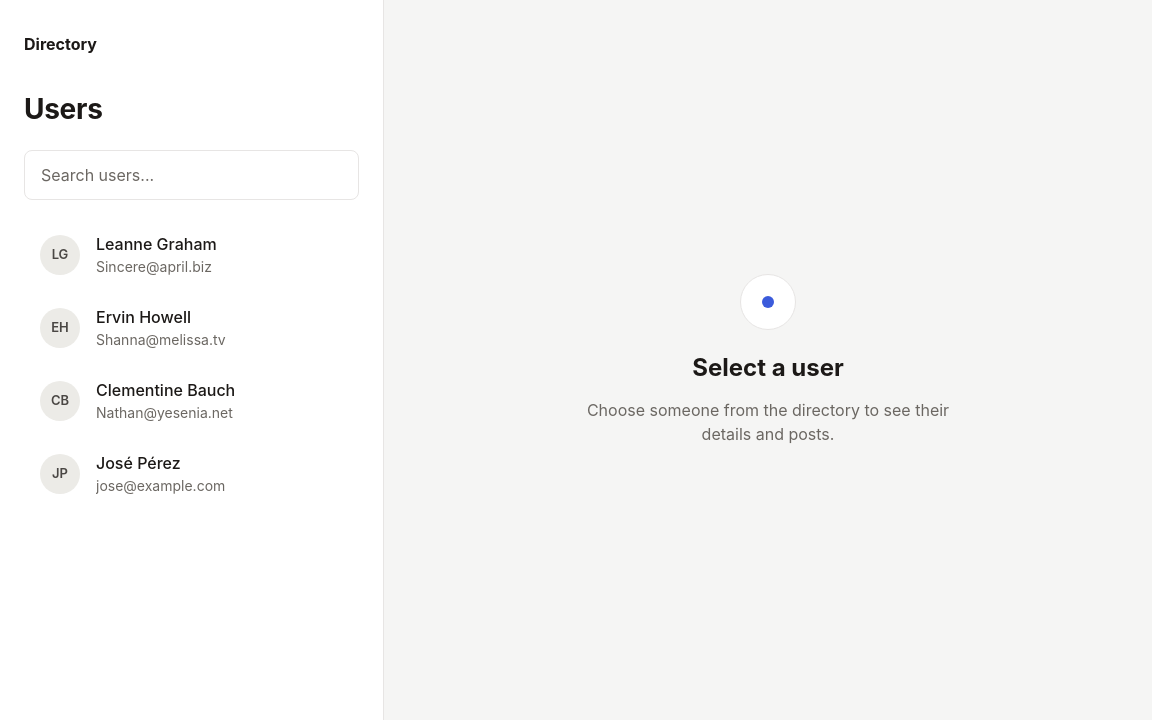
Test: User posts › shows an empty state for a user without posts
Click the button "Clementine Bauch": point(192, 400) [24,366,359,435]
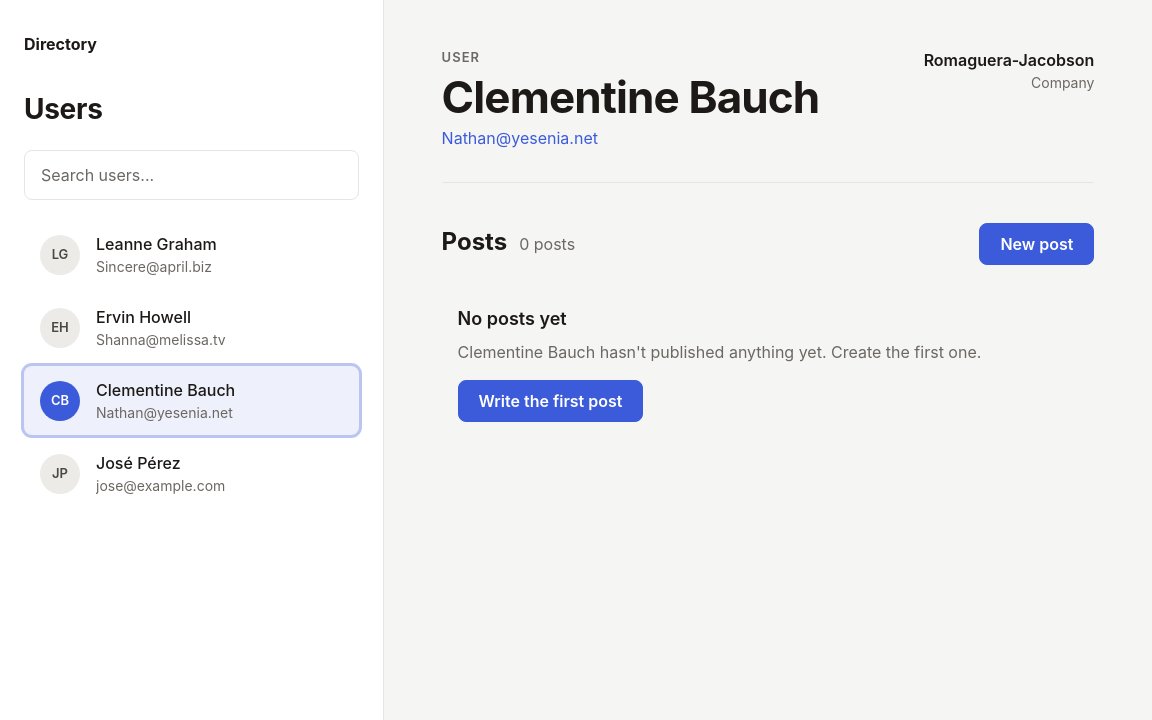
Result: the text "No posts yet" is shown at [458,305,567,332]
Result: the text "Clementine Bauch hasn't published anything yet. Create the first one." is shown at [458,340,981,364]
Result: the text "0 posts" is shown at [519,232,575,256]
